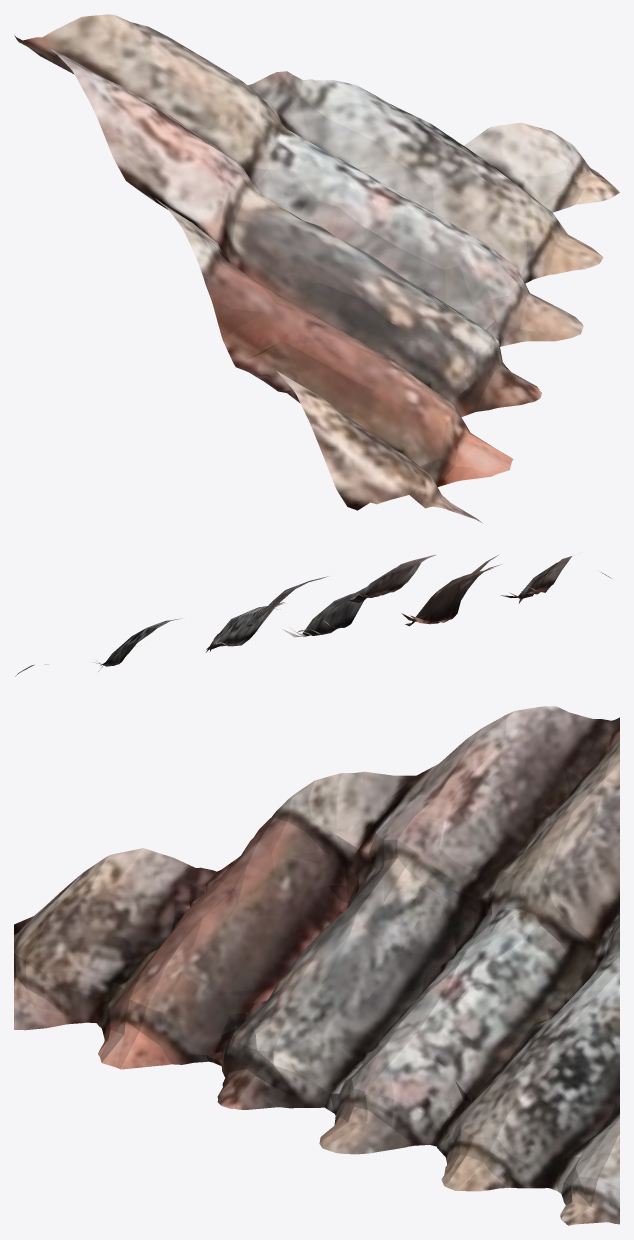
3 views of the same model, one above another, from view 1: azimuth 30°, elevation 25°; view 2: azimuth 150°, elevation 25°; view 3: azimuth 270°, elevation 25° (orthographic). The views are drawn at different scales.
Size of the model in its own units: 0.8374 by 0.4018 by 0.8374.
Materials: 2 (2 with a texture image).
